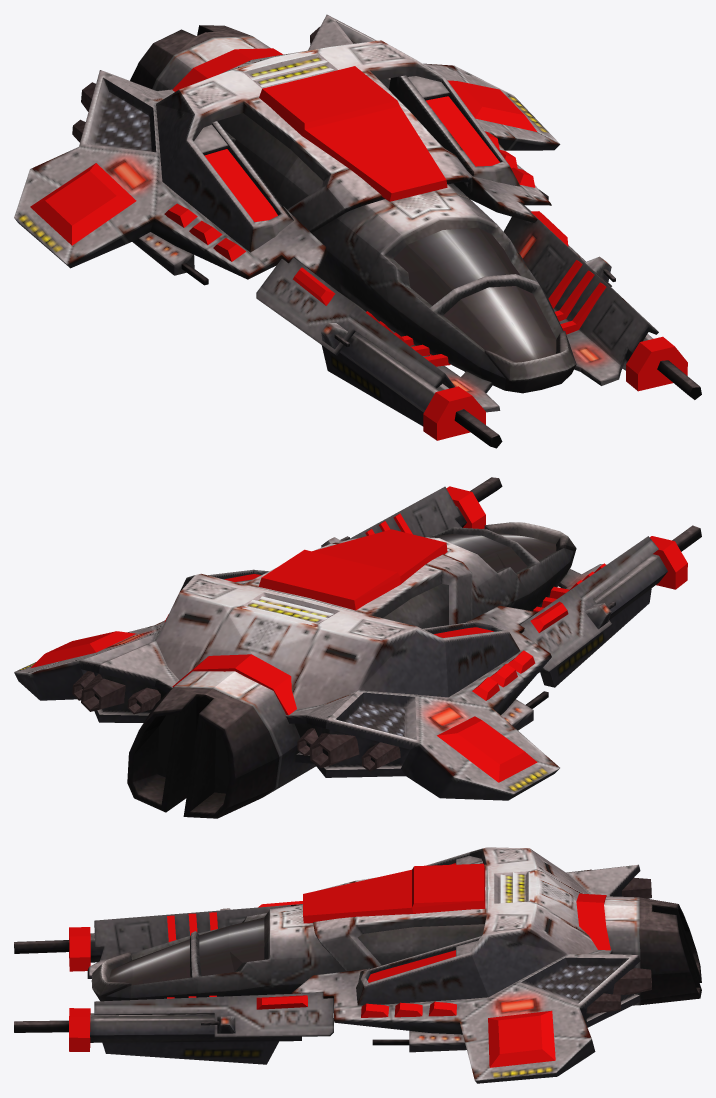
Rendered from Zaiten_lv2.fbx.
3 renders of one model, top to bottom at view 1: azimuth 30°, elevation 25°; view 2: azimuth 150°, elevation 25°; view 3: azimuth 270°, elevation 25°, orthographic. The views are drawn at different scales.
Parts seen in each view (by area): view 1: zaiten2_diffuse, zaiten2_color; view 2: zaiten2_diffuse, zaiten2_color; view 3: zaiten2_diffuse, zaiten2_color.
Boxes of the visible parts, x1,y1,x2,y2 form: zaiten2_diffuse: (14, 14, 701, 448); zaiten2_color: (30, 48, 687, 440); zaiten2_diffuse: (14, 477, 701, 818); zaiten2_color: (30, 486, 687, 782); zaiten2_diffuse: (14, 847, 701, 1083); zaiten2_color: (69, 863, 610, 1067).
Size of the model in its own units: 44.84 by 14.42 by 65.41.
